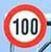Gioi han toc do: (3, 4, 47, 47)
